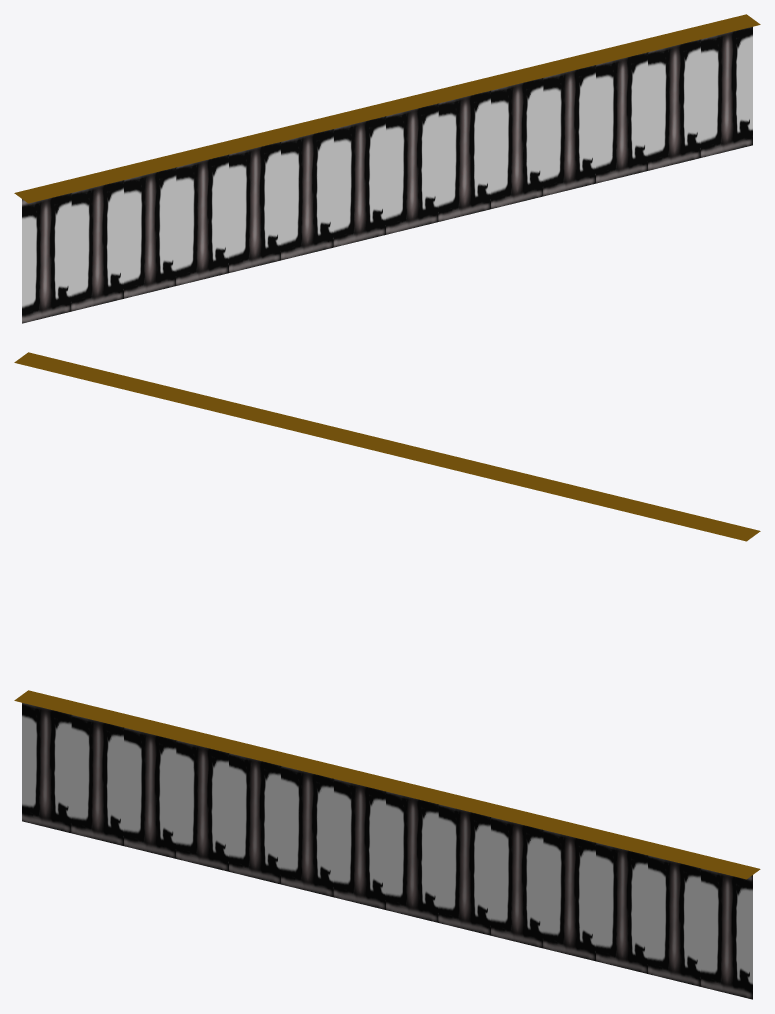
The model's file is Geländer3Hoch [Metallstäbe]_1021.glb.
3 views of the same model, one above another, from view 1: azimuth 30°, elevation 25°; view 2: azimuth 150°, elevation 25°; view 3: azimuth 330°, elevation 25° (orthographic).
Visible parts, largest first — view 1: pPlaneShape223, pPlaneShape224; view 2: pPlaneShape224; view 3: pPlaneShape223, pPlaneShape224.
Boxes of the visible parts, bbox=[...] form: pPlaneShape223: bbox=[22, 27, 752, 323]; pPlaneShape224: bbox=[14, 14, 760, 203]; pPlaneShape224: bbox=[14, 352, 760, 541]; pPlaneShape223: bbox=[22, 703, 752, 999]; pPlaneShape224: bbox=[14, 690, 760, 879].
Size of the model in its own units: 0.7175 by 0.1175 by 0.0243.
2 materials, 1 textured.
